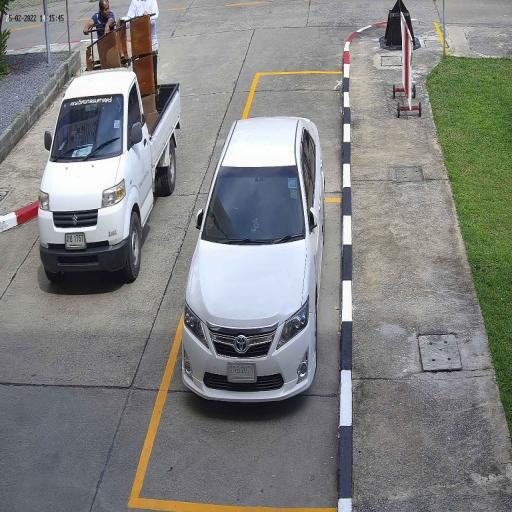car: (180, 114, 326, 412), (36, 68, 182, 284)
